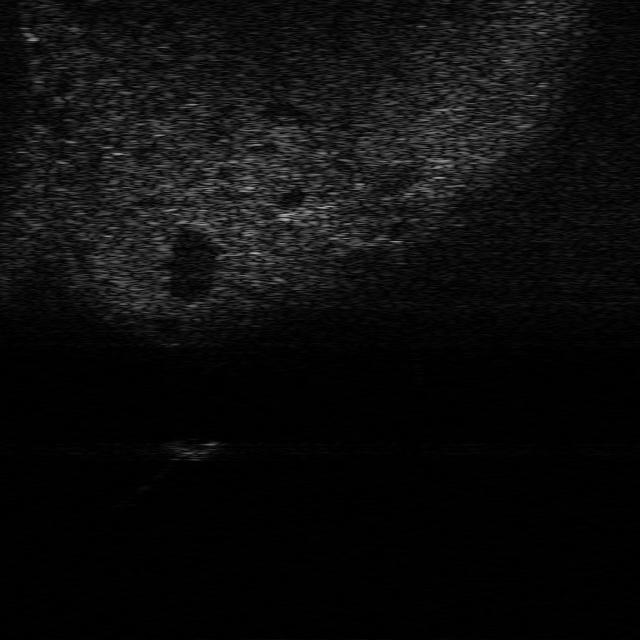cube: (165, 432, 219, 462)
